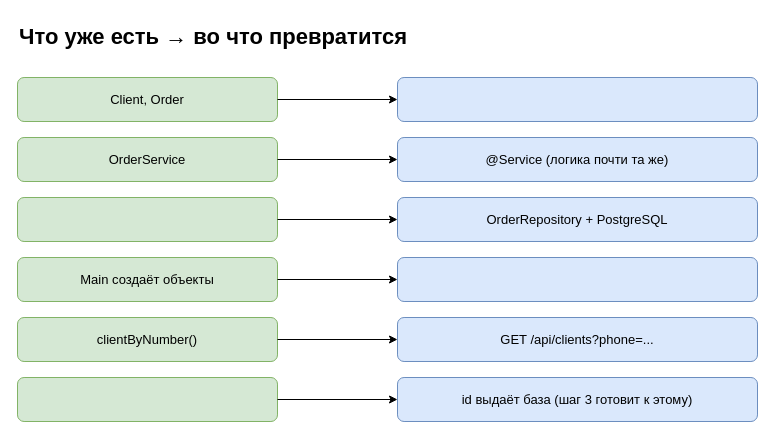
This 775x439 diagram has some shape labels left out. Here are the shapes that lost their labels. From the top down, the box of each, then its label:
(396, 76, 758, 122): @Entity → таблицы clients, orders
(16, 196, 278, 242): List<Order> orders
(396, 256, 758, 302): Controller получает их из HTTP-запроса
(16, 376, 278, 422): номер заказа вручную
